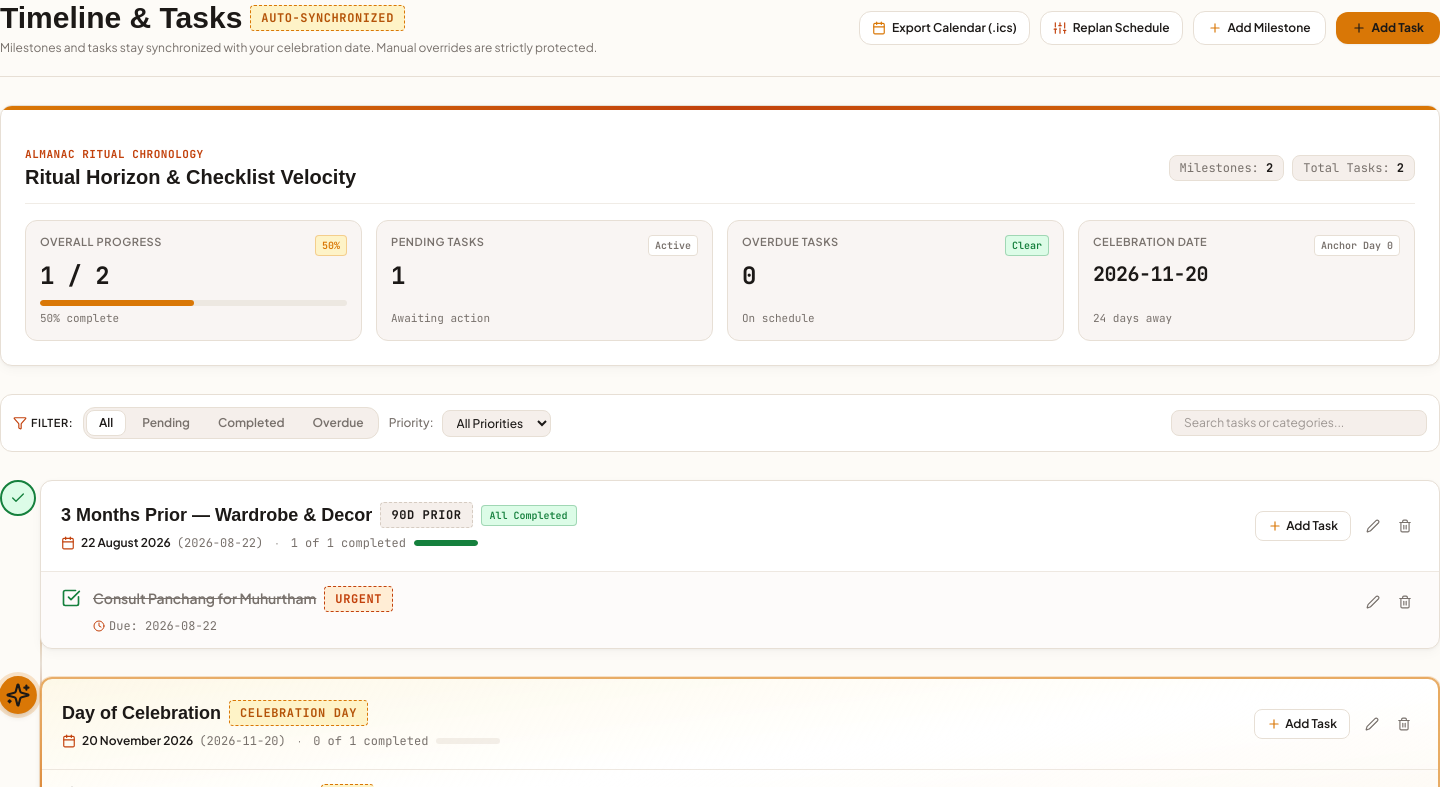
Scenario: TimelineTasksTab Component › opens task modal when clicking Add Task
// The header has an Add Task button
Click the button "Add Task" in the row of "Auto-Synchronized" at {"x": 1388, "y": 28}, box top-left (1336, 12), bottom-right (1439, 44)
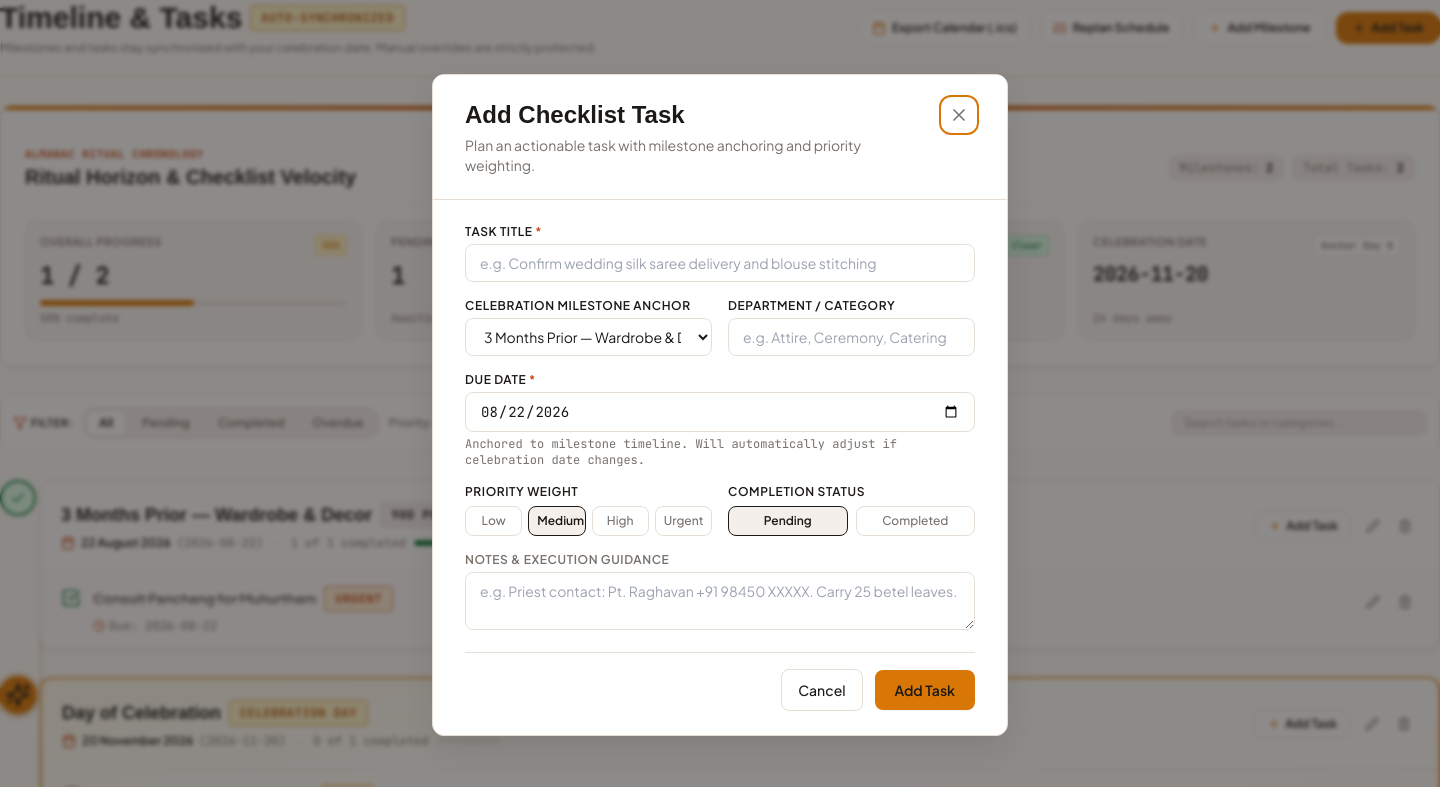
Result: the heading "Add Checklist Task" is shown at top-left (465, 101), bottom-right (685, 128)
